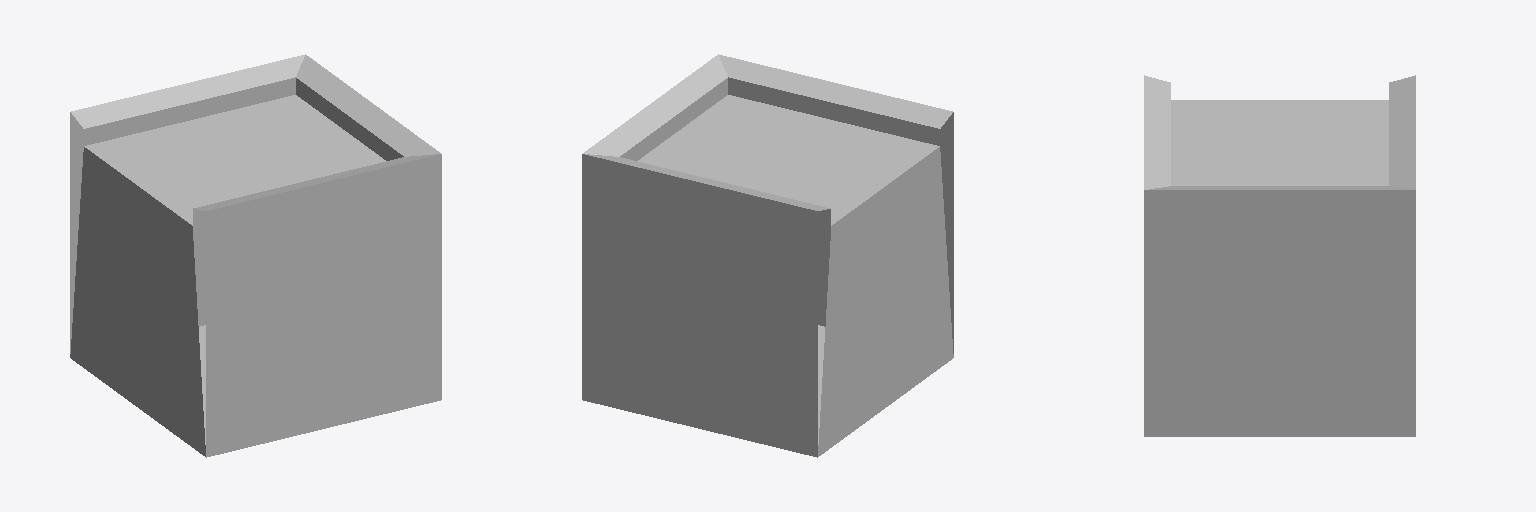
The model's file is screen3Quarters.obj.
3 renders of one model, left to right at view 1: azimuth 30°, elevation 25°; view 2: azimuth 150°, elevation 25°; view 3: azimuth 270°, elevation 25°, orthographic.
Parts seen in each view (by area): view 1: main; view 2: main; view 3: main.
Part boxes in pixels (bbox=[...]): main: bbox=[70, 54, 441, 457]; main: bbox=[582, 54, 953, 457]; main: bbox=[1144, 75, 1415, 436].
Size of the model in its own units: 1 by 1 by 1.